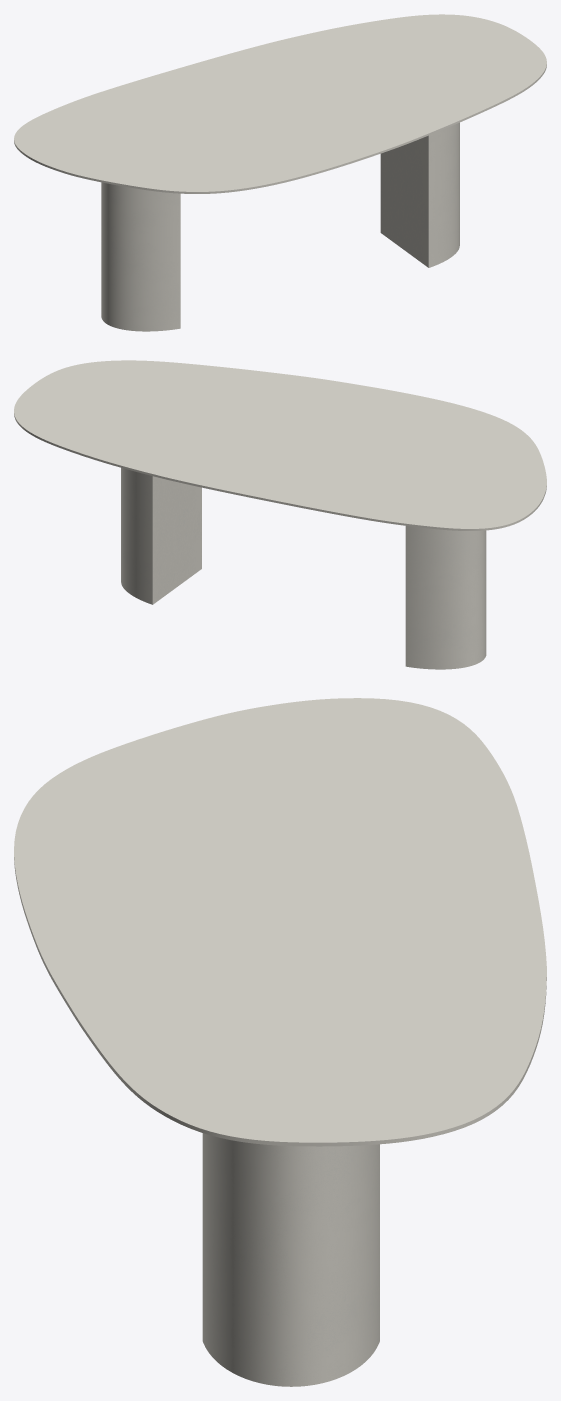
Rendered from pale_leaf2_facet_hillside.glb.
3 views of the same model, one above another, from view 1: azimuth 30°, elevation 25°; view 2: azimuth 150°, elevation 25°; view 3: azimuth 270°, elevation 25° (orthographic). The views are drawn at different scales.
Visible parts, largest first — view 1: facet_leaf2, hillside; view 2: facet_leaf2, hillside; view 3: facet_leaf2, hillside.
Part boxes in pixels (<box>): facet_leaf2: <box>14,14,546,193</box>; hillside: <box>101,122,459,331</box>; facet_leaf2: <box>14,360,546,530</box>; hillside: <box>121,468,486,669</box>; facet_leaf2: <box>14,698,546,1146</box>; hillside: <box>202,1133,379,1386</box>.
Bounding box in the file's own units: 7.5 × 2.5 × 3.8.
Materials: 1 (1 with a texture image).
